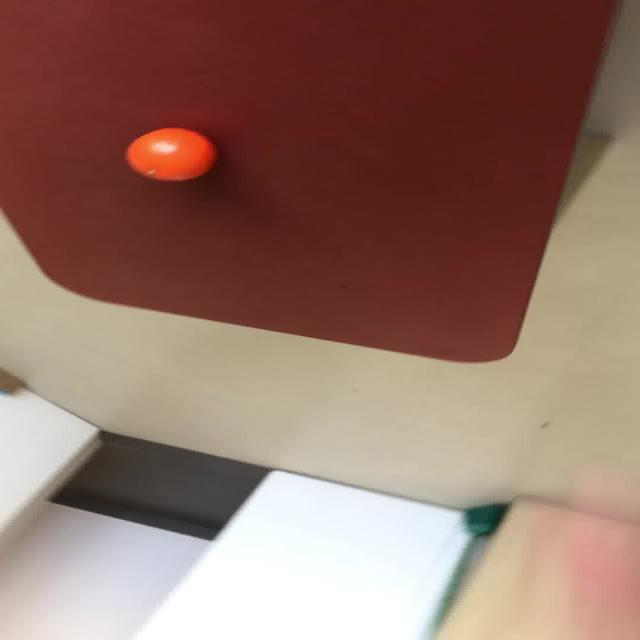orange: (124, 126, 215, 182)
